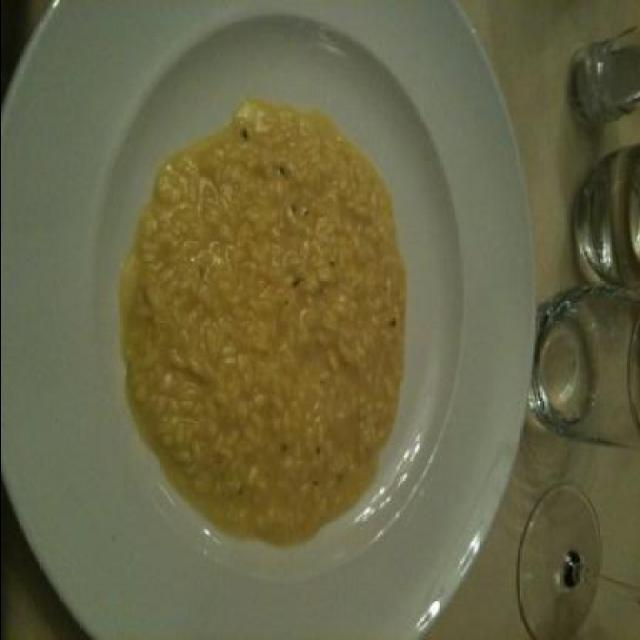Risotto: (124, 126, 396, 543)
